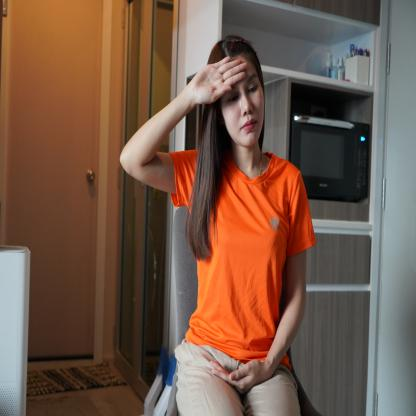Sick: (176, 49, 258, 107)
